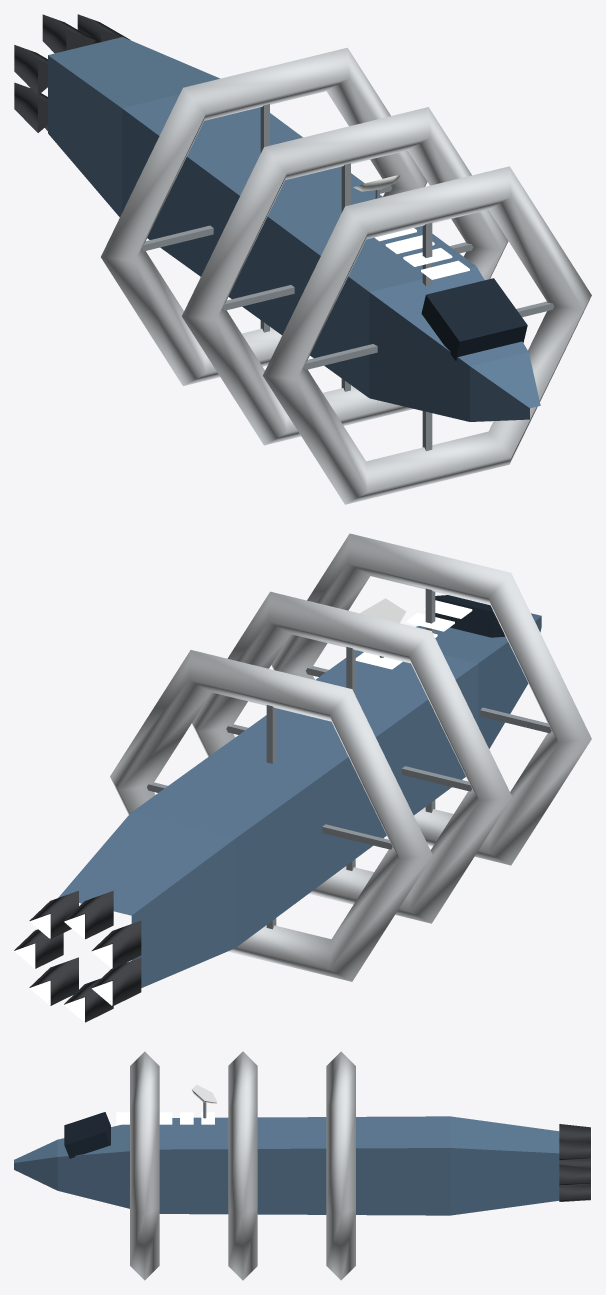
Rendered from space_ship_colony_transport_mk6_lod2.glb.
The picture shows the model from 3 angles, top to bottom: view 1: azimuth 30°, elevation 25°; view 2: azimuth 150°, elevation 25°; view 3: azimuth 270°, elevation 25°; orthographic projection. The views are drawn at different scales.
Parts seen in each view (by area): view 1: body, habitat_ring_2, habitat_ring_1, habitat_ring_0, engine_2, engine_3, engine_4, engine_1; view 2: body, habitat_ring_0, habitat_ring_1, habitat_ring_2, engine_3, engine_4, engine_2, engine_6, engine_1, engine_0, engine_5, antenna_0; view 3: body, habitat_ring_1, habitat_ring_0, habitat_ring_2, engine_1, engine_0, engine_6, engine_2, antenna_0.
Boxes of the visible parts, box(x1,y1,x2,y2) form: body: box(48, 37, 540, 421); habitat_ring_2: box(263, 166, 591, 504); habitat_ring_1: box(182, 107, 508, 445); habitat_ring_0: box(101, 47, 427, 385); engine_2: box(42, 14, 95, 53); engine_3: box(14, 45, 47, 95); engine_4: box(14, 82, 47, 132); engine_1: box(77, 14, 129, 44); body: box(58, 595, 541, 987); habitat_ring_0: box(110, 650, 432, 981); habitat_ring_1: box(192, 591, 512, 923); habitat_ring_2: box(271, 533, 591, 865); engine_3: box(91, 920, 141, 968); engine_4: box(91, 957, 141, 1005); engine_2: box(64, 890, 113, 939); engine_6: box(29, 957, 78, 1005); engine_1: box(29, 890, 78, 938); engine_0: box(14, 929, 63, 968); engine_5: box(64, 978, 113, 1022); antenna_0: box(360, 598, 406, 657); body: box(14, 1112, 559, 1215); habitat_ring_1: box(228, 1051, 257, 1280); habitat_ring_0: box(326, 1051, 355, 1280); habitat_ring_2: box(130, 1051, 159, 1280); engine_1: box(559, 1139, 591, 1160); engine_0: box(559, 1164, 591, 1185); engine_6: box(559, 1184, 591, 1201); engine_2: box(559, 1124, 591, 1142); antenna_0: box(192, 1084, 217, 1118).
Size of the model in its own units: 27.03 by 23.41 by 67.84.
